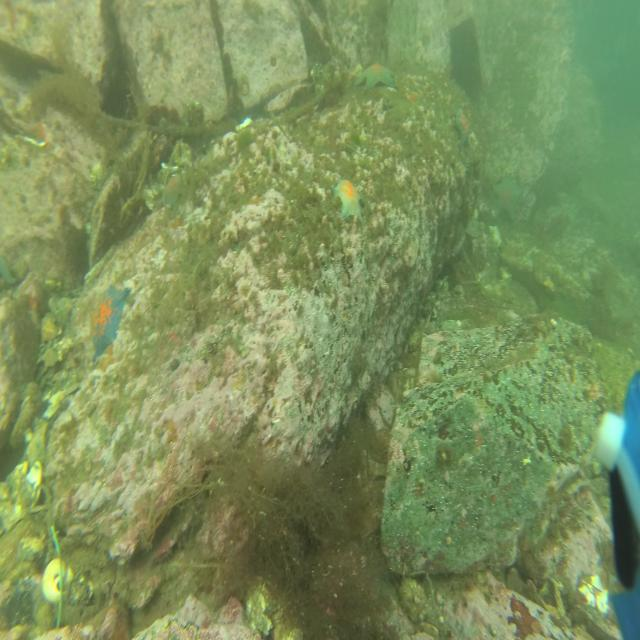starfish: (88, 280, 133, 363), (330, 172, 367, 227), (352, 57, 398, 94), (494, 173, 524, 221), (158, 168, 190, 212), (450, 105, 476, 150)
